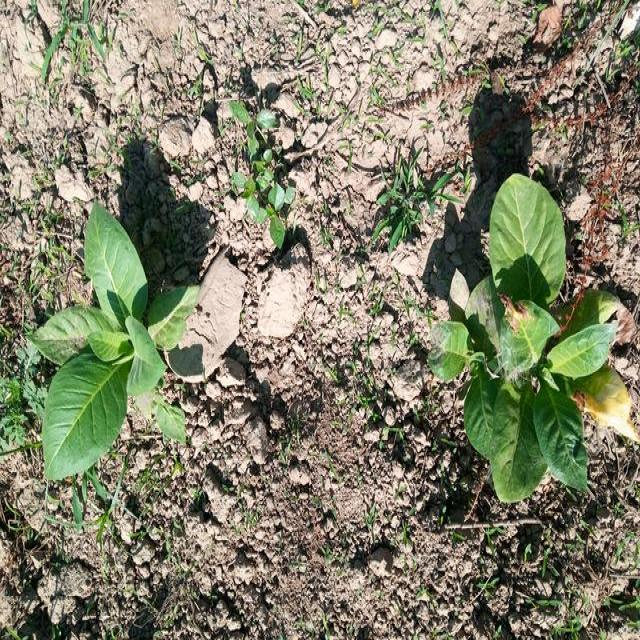crop: (434, 175, 628, 493), (32, 203, 195, 472)
